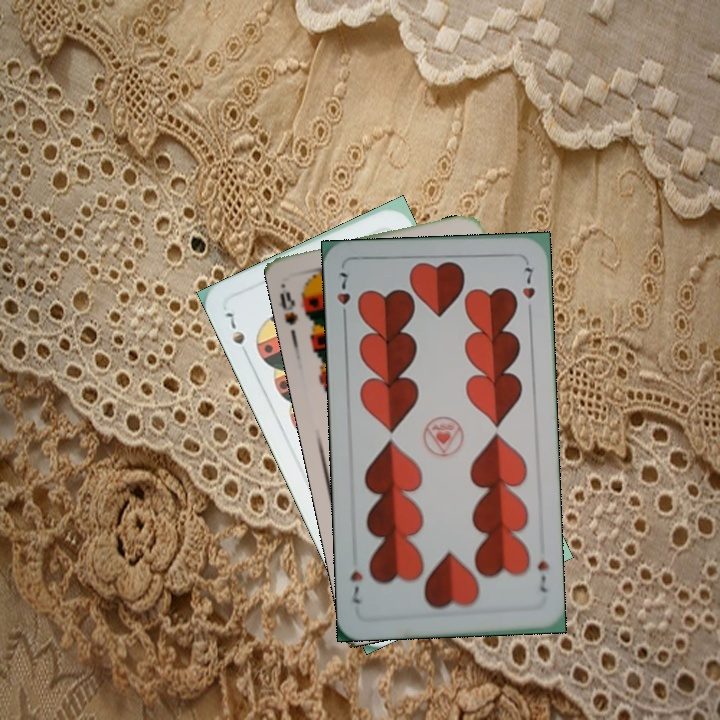H7: (333, 268, 353, 324), (534, 556, 552, 595)
S7: (218, 308, 252, 361)
S8: (276, 287, 301, 327)
